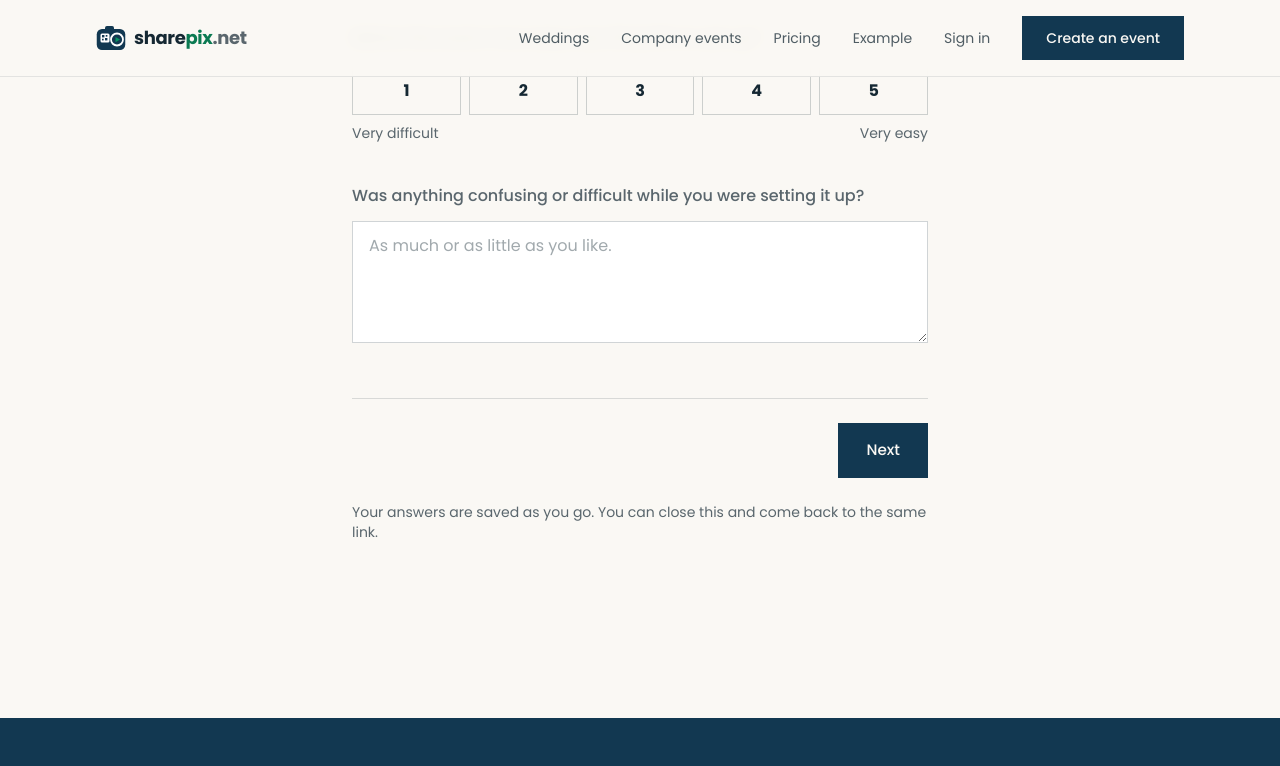
submitting › keeps the permission questions on their own step, away from the product ones
The width and height of the screenshot is (1280, 766).
(page scrolled)
Step 1. Click the button "Next" → click(883, 450), box left=838, top=423, right=928, bottom=478
(page scrolled)
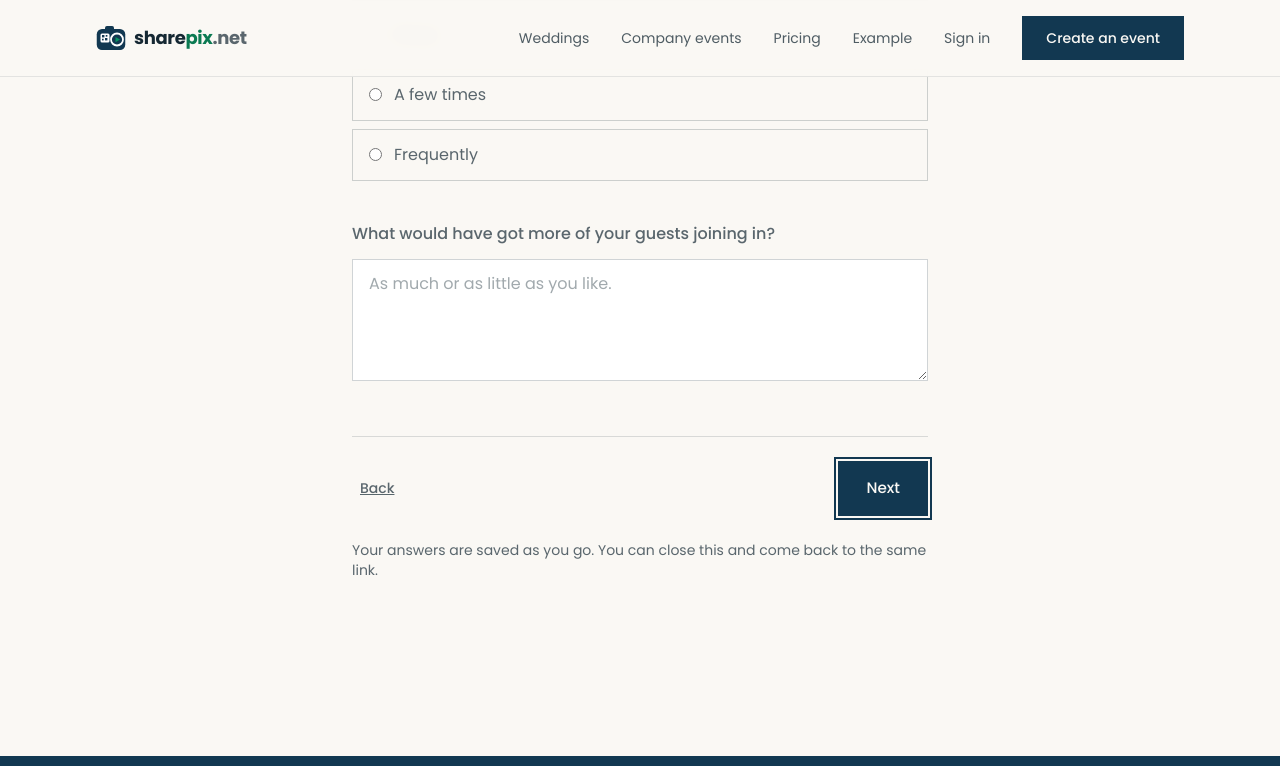
Step 2. Click the button "Next" → click(883, 488), box left=838, top=461, right=928, bottom=516
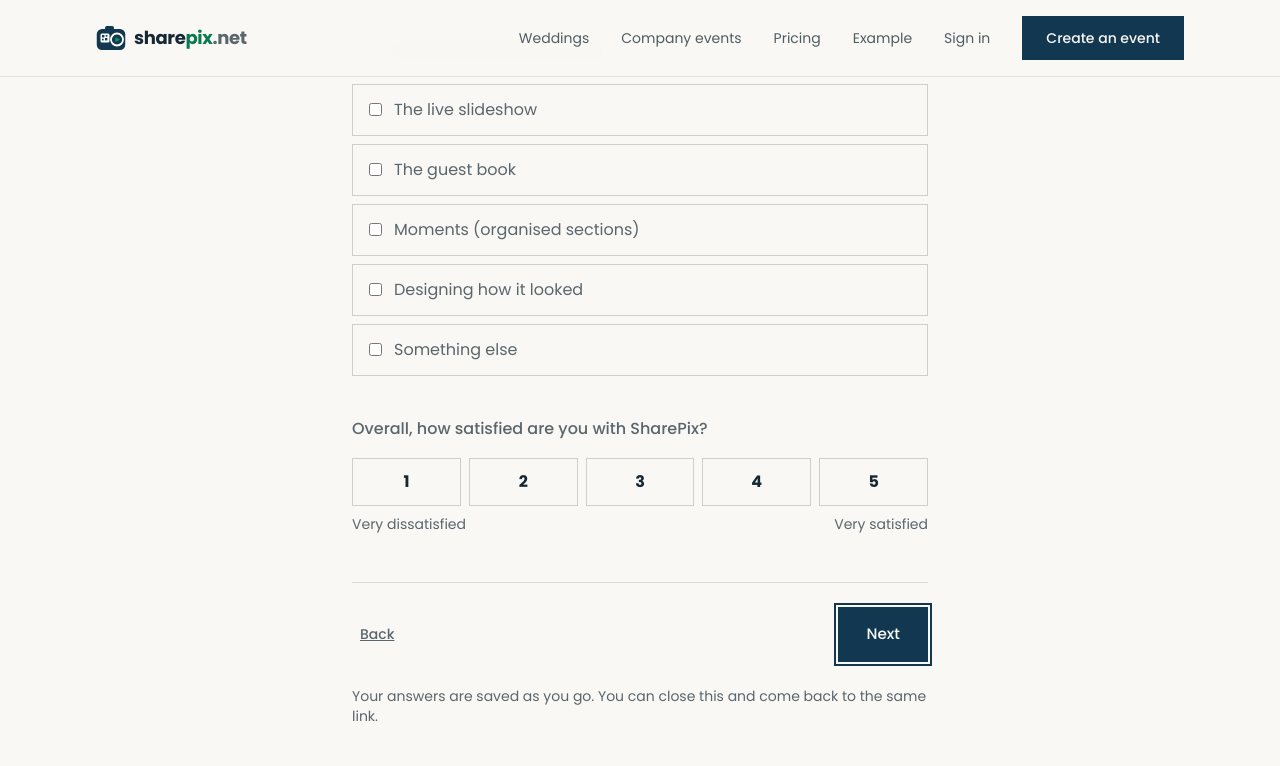
Step 3. Click the button "Next" → click(883, 634), box left=838, top=607, right=928, bottom=662
(page scrolled)
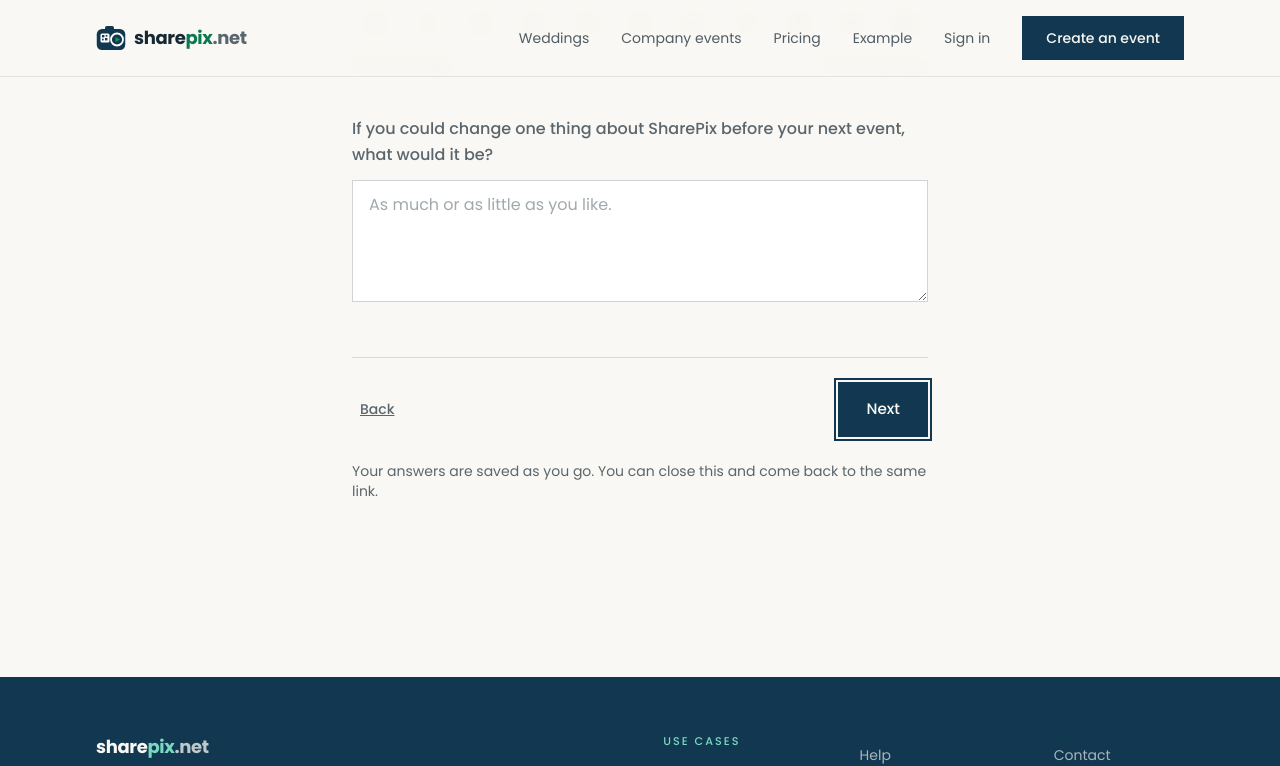
Step 4. Click the button "Next" → click(883, 409), box left=838, top=382, right=928, bottom=437
(page scrolled)
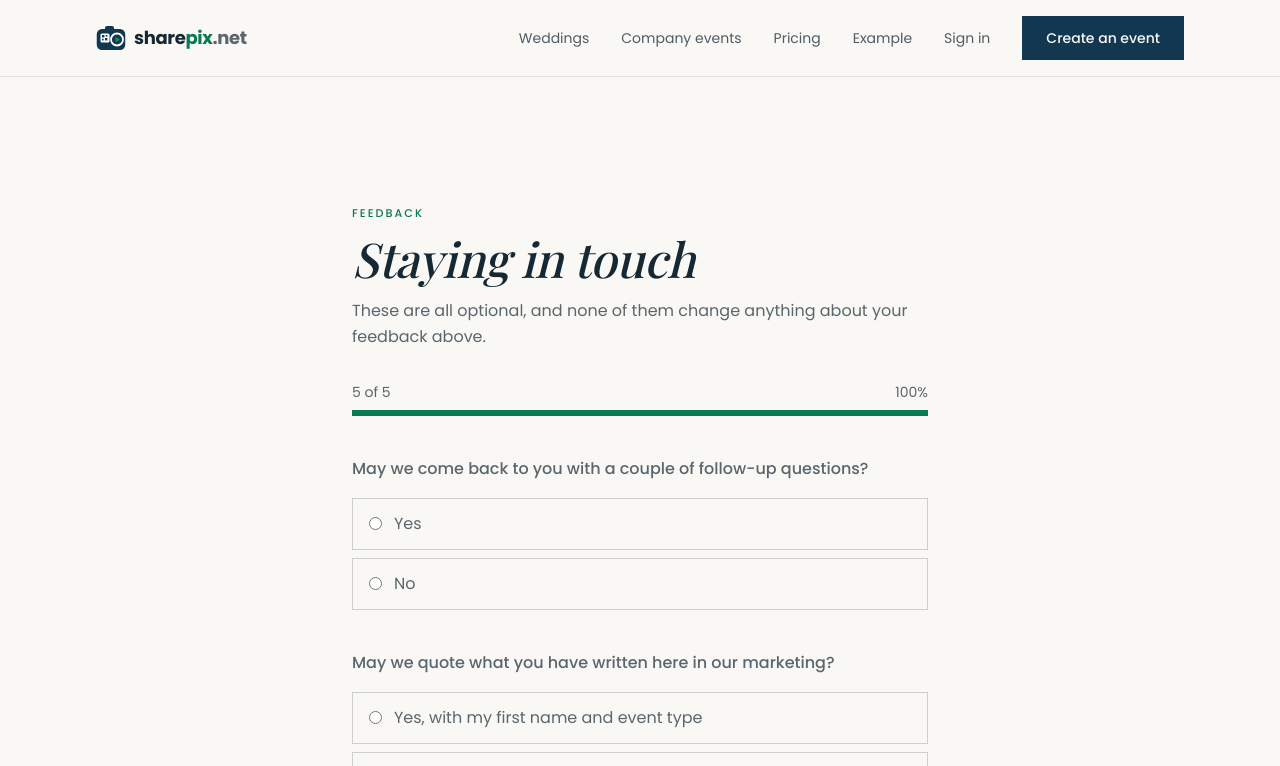
Now the text "5 of 5" is shown, box left=352, top=382, right=391, bottom=402
Now the text "May we quote what you have written here in our marketing?" is shown, box left=352, top=650, right=834, bottom=676
Now the text "none of them change anything" is shown, box left=352, top=299, right=907, bottom=348
